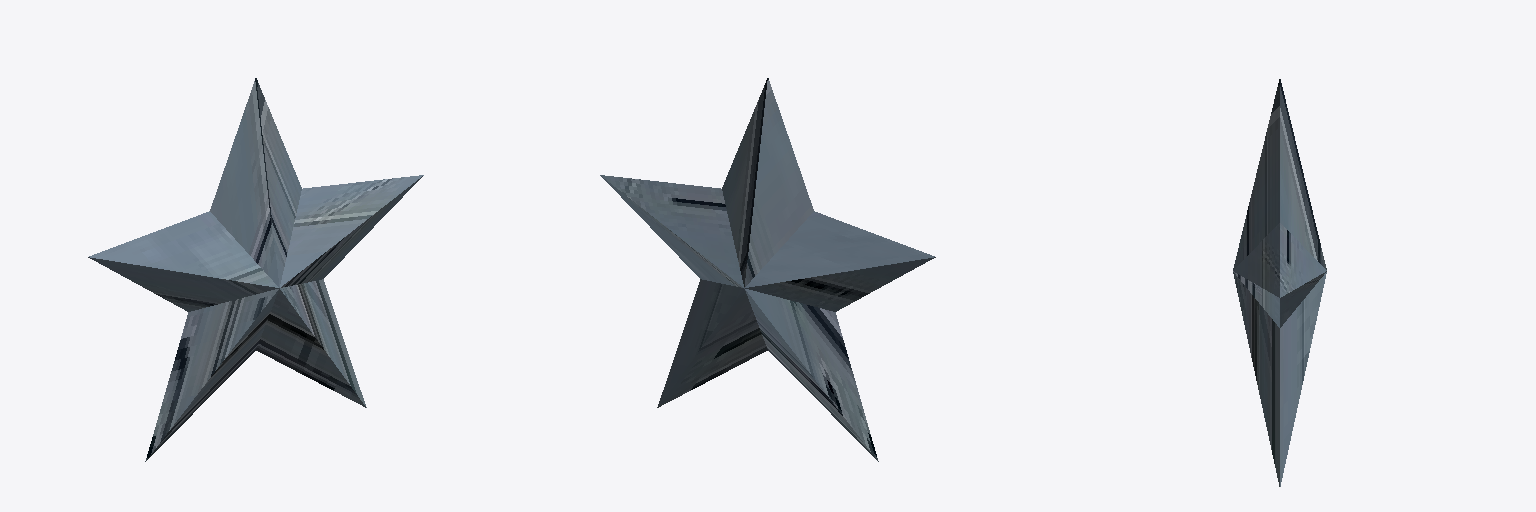
The picture shows the model from 3 angles: view 1: azimuth 30°, elevation 25°; view 2: azimuth 150°, elevation 25°; view 3: azimuth 270°, elevation 25°; orthographic projection.
Visible parts, largest first — view 1: Cube; view 2: Cube; view 3: Cube.
Part boxes in pixels (bbox=[...]): Cube: bbox=[88, 78, 423, 461]; Cube: bbox=[600, 78, 935, 461]; Cube: bbox=[1233, 79, 1326, 486].
Size of the model in its own units: 7.34 by 7.46 by 1.78.
1 materials, 1 textured.